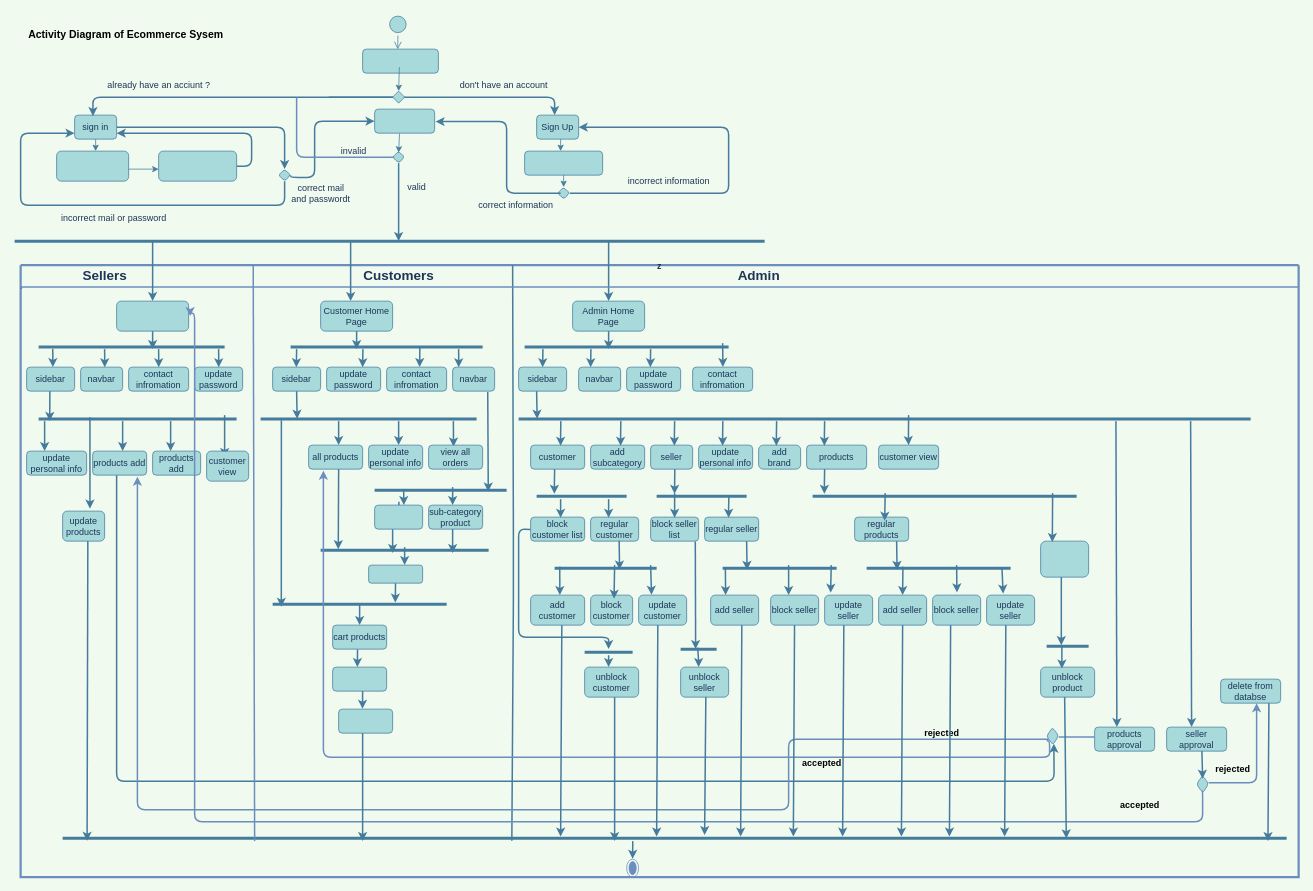
This 1313x891 diagram has some shape labels left out. Each missing label, with the centre of its shape:
add to cart: (x=395, y=573)
authentication: (x=404, y=120)
block products list: (x=1064, y=558)
brand product: (x=398, y=516)
change password: (x=197, y=165)
Dashboard: (x=400, y=60)
enter information: (x=563, y=162)
forgot password: (x=92, y=165)
payment: (x=359, y=678)
place order: (x=365, y=720)
Seller Home page: (x=152, y=315)
